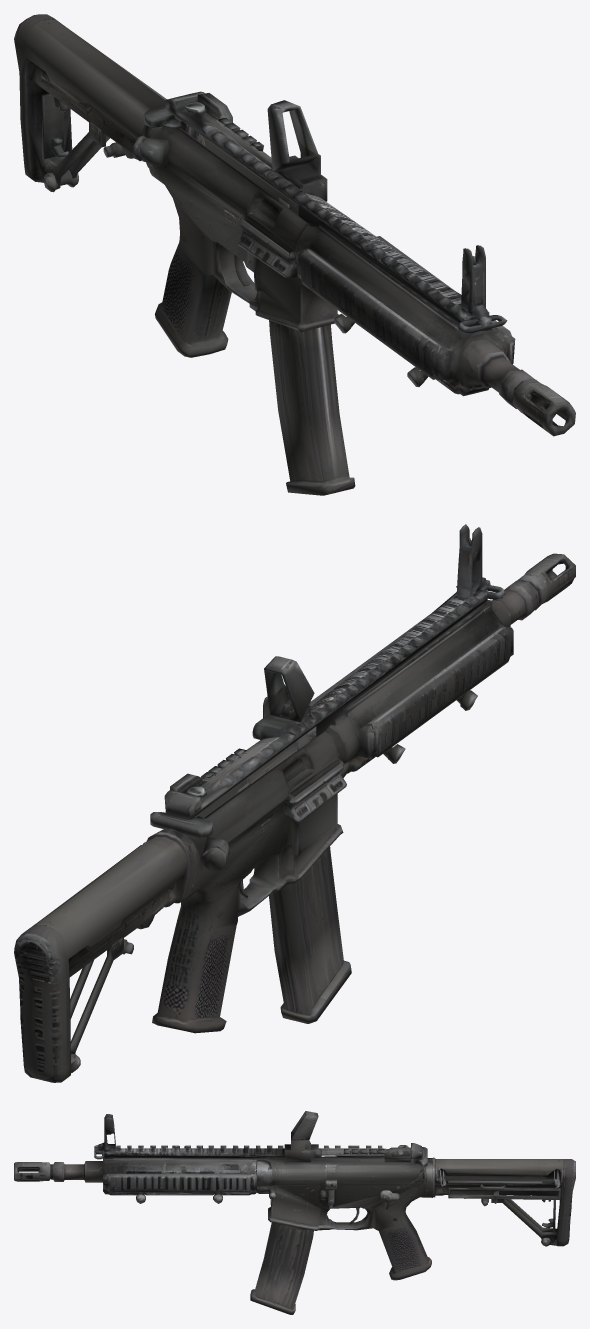
The picture shows the model from 3 angles, top to bottom: view 1: azimuth 30°, elevation 25°; view 2: azimuth 150°, elevation 25°; view 3: azimuth 270°, elevation 25°; orthographic projection. The views are drawn at different scales.
Parts seen in each view (by area): view 1: tripo_node_234f87c5-5f87-4cf0-8b37-39ee9ae52aa1; view 2: tripo_node_234f87c5-5f87-4cf0-8b37-39ee9ae52aa1; view 3: tripo_node_234f87c5-5f87-4cf0-8b37-39ee9ae52aa1.
Boxes of the visible parts, left/top/right/bottom form: tripo_node_234f87c5-5f87-4cf0-8b37-39ee9ae52aa1: left=14, top=14, right=575, bottom=495; tripo_node_234f87c5-5f87-4cf0-8b37-39ee9ae52aa1: left=14, top=524, right=575, bottom=1082; tripo_node_234f87c5-5f87-4cf0-8b37-39ee9ae52aa1: left=14, top=1111, right=575, bottom=1314.
Bounding box in the file's own units: 0.2093 × 0.85 × 2.18.
Materials: 1 (1 with a texture image).
